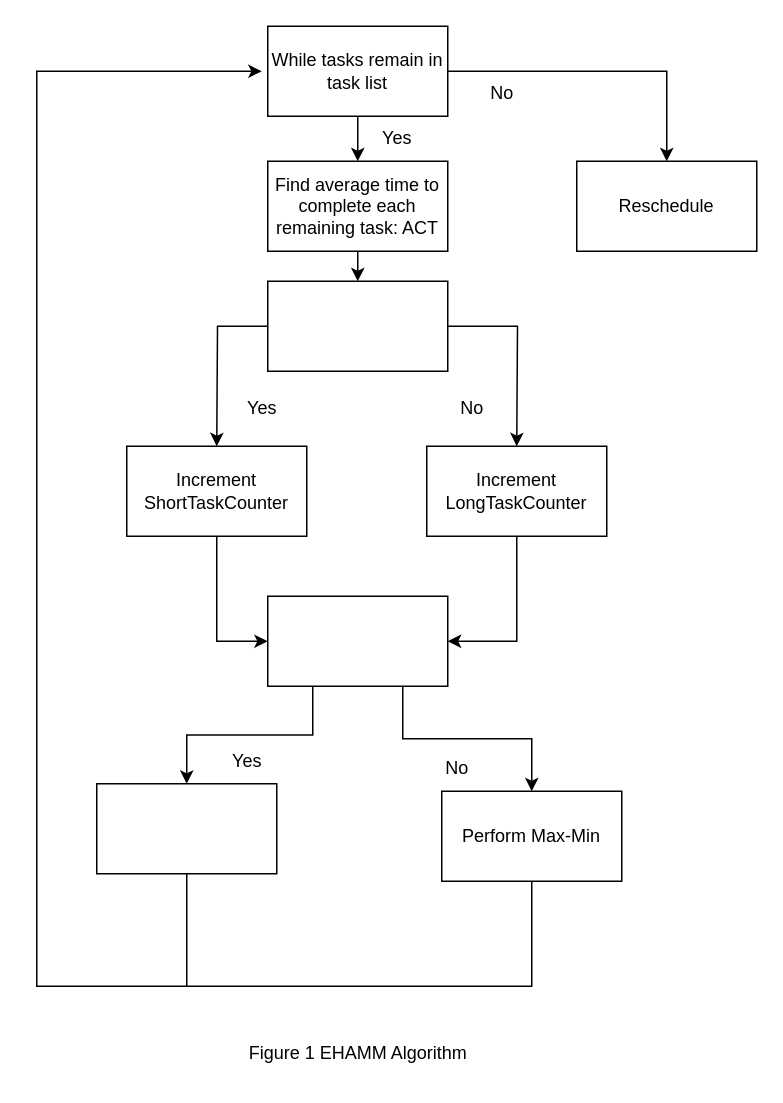
The diagram is 783 pixels wide and 1103 high, and some of its shapes have lost their labels. The shapes that lost their labels are listed below. From the top down, each one's centre as x and y in pixels, then its label:
At (357,325): "For each task, T i , check if: CT(Ti) < ACT".
At (357,640): "if ShortTaskCounter < LongTaskCounter".
At (186,828): "Perform Min-Min".
